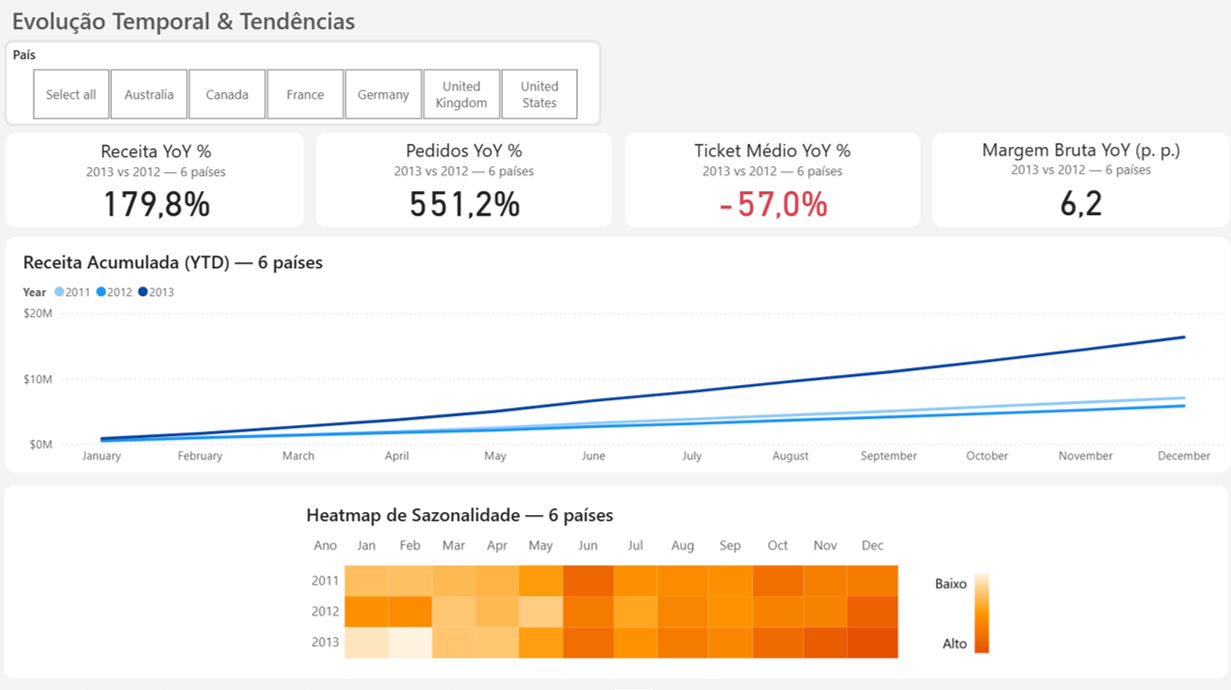

Layout of this report page (visuals, bound fields, positions):
{"tool":"powerbi","page":{"name":"Tempo & KPIs Avançados","canvas":[1280,720],"ordinal":3},"visuals":[{"type":"shape","box":[6.4,507.4,1265.2,200.2],"z":0},{"type":"shape","box":[7.3,250.5,1266.9,244.2],"z":1000},{"type":"shape","box":[6.9,46.8,618,89.5],"z":2000},{"type":"lineChart","fields":{"Category":["date_dim.Month Name"],"Y":["00_Measures.Sales YTD"],"Series":["date_dim.Year"]},"box":[21.2,262.7,1251.1,232.2],"z":3000},{"type":"slicer","title":"País","fields":{"Values":["gold dim_customers.country"]},"box":[10.6,52.8,613.2,83.4],"z":4000},{"type":"textbox","title":"Evolução Temporal & Tendências","box":[10,10,534.2,38.5],"z":5000},{"type":"shape","box":[329.6,142.5,305.3,97.9],"z":6000},{"type":"shape","box":[648.5,142.5,305.3,97.9],"z":7000},{"type":"shape","box":[966.4,142.5,307.3,97.9],"z":8000},{"type":"shape","box":[8.7,142.5,308.2,97.9],"z":9000},{"type":"card","title":"Receita YoY %","fields":{"Values":["00_Measures.Sales YoY % Last"]},"box":[11.6,148.3,304.4,92.1],"z":10000},{"type":"card","title":"Pedidos YoY %","fields":{"Values":["00_Measures.Orders YoY % Last"]},"box":[329.6,147.3,305.3,93.1],"z":11000},{"type":"card","title":"Ticket Médio YoY %","fields":{"Values":["00_Measures.AOV YoY % Last"]},"box":[648.5,147.3,305.3,93.1],"z":12000},{"type":"card","title":"Margem Bruta YoY (p. p.)","fields":{"Values":["00_Measures.Margin YoY p.p. Last (pp)"]},"box":[966.4,146.4,307.3,94],"z":13000},{"type":"pivotTable","fields":{"Rows":["date_dim.Year"],"Values":["00_Measures.% Sales In Year"],"Columns":["date_dim.Month Short"]},"box":[314.4,524,664.7,180.4],"z":14000},{"type":"image","box":[946.8,590.3,102.9,96.7],"z":15000}]}

Visuals, with their boxes in screenshot pixels (x1, y1, x2, y2), scaled from the page's 1280x720 canvas onto the 1231x690 screenshot:
shape: Rect(6, 486, 1223, 678)
shape: Rect(7, 240, 1225, 474)
shape: Rect(7, 45, 601, 131)
lineChart - date_dim.Month Name x 00_Measures.Sales YTD: Rect(20, 252, 1224, 474)
"País" slicer: Rect(10, 51, 600, 131)
"Evolução Temporal & Tendências" textbox: Rect(10, 10, 523, 46)
shape: Rect(317, 137, 611, 230)
shape: Rect(624, 137, 917, 230)
shape: Rect(929, 137, 1225, 230)
shape: Rect(8, 137, 305, 230)
"Receita YoY %" card: Rect(11, 142, 304, 230)
"Pedidos YoY %" card: Rect(317, 141, 611, 230)
"Ticket Médio YoY %" card: Rect(624, 141, 917, 230)
"Margem Bruta YoY (p. p.)" card: Rect(929, 140, 1225, 230)
pivotTable - date_dim.Year x 00_Measures.% Sales In Year: Rect(302, 502, 942, 675)
image: Rect(911, 566, 1010, 658)
